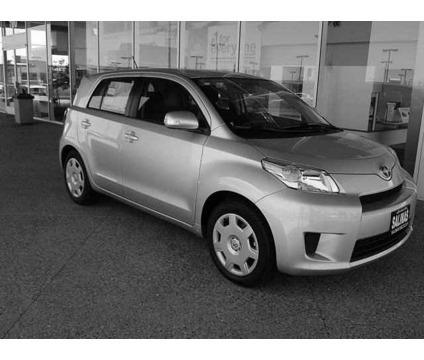car: (56, 67, 420, 284)
